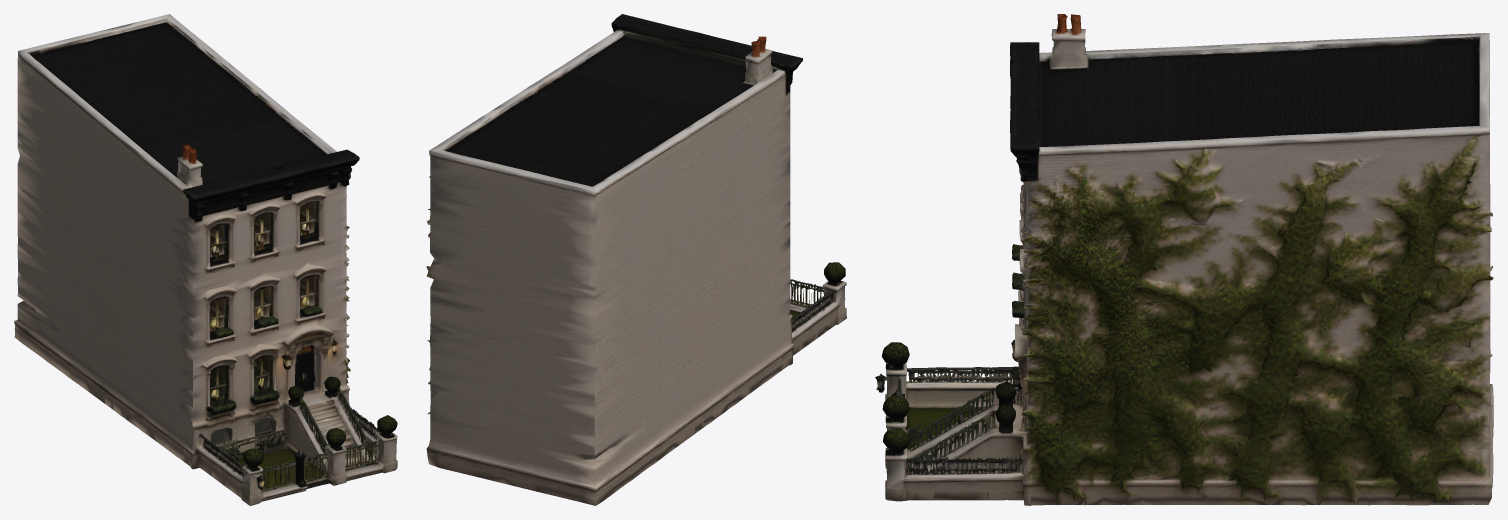
File: tripo_convert_4f48809e-b281-49d8-8d68-0622291ec34c.fbx
3 views of the same model, side by side, from view 1: azimuth 30°, elevation 25°; view 2: azimuth 150°, elevation 25°; view 3: azimuth 270°, elevation 25° (orthographic). The views are drawn at different scales.
Visible parts, largest first — view 1: tripo_node_4f48809e; view 2: tripo_node_4f48809e; view 3: tripo_node_4f48809e.
Boxes of the visible parts, bbox=[...] form: tripo_node_4f48809e: bbox=[14, 14, 397, 505]; tripo_node_4f48809e: bbox=[426, 14, 846, 505]; tripo_node_4f48809e: bbox=[875, 14, 1493, 505].
Bounding box in the file's own units: 0.4072 × 0.6971 × 0.9782.
Materials: 1 (1 with a texture image).
